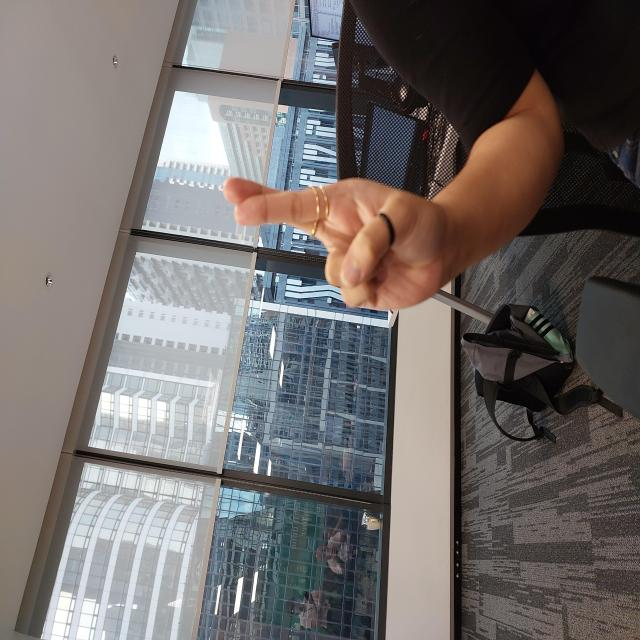R: (327, 221, 468, 450)
